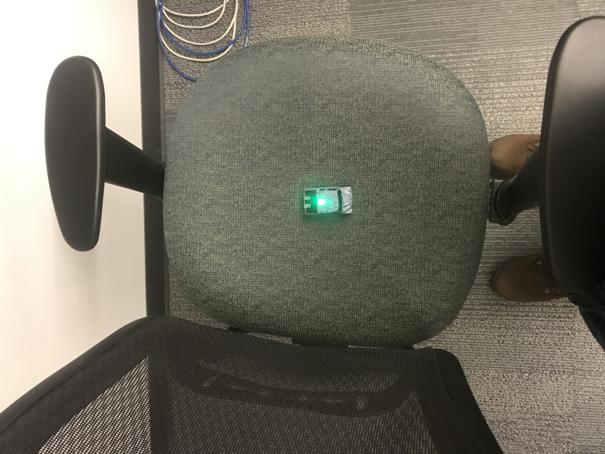MXT: (301, 185, 353, 218)
